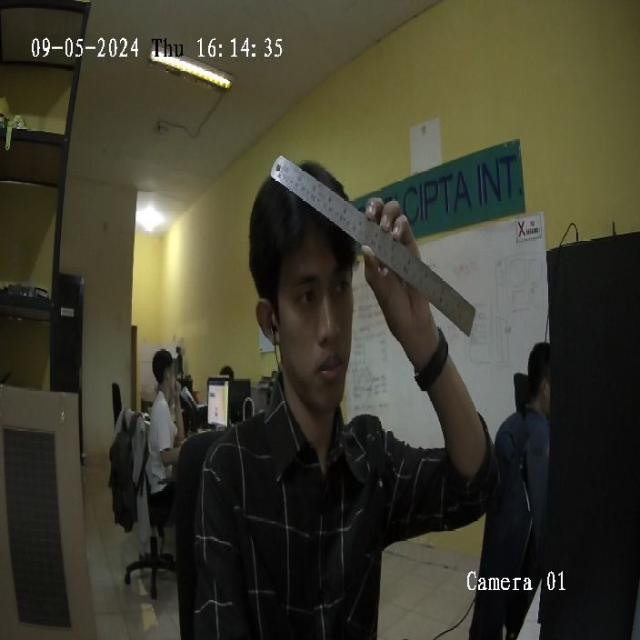Ruler: (271, 157, 475, 333)
